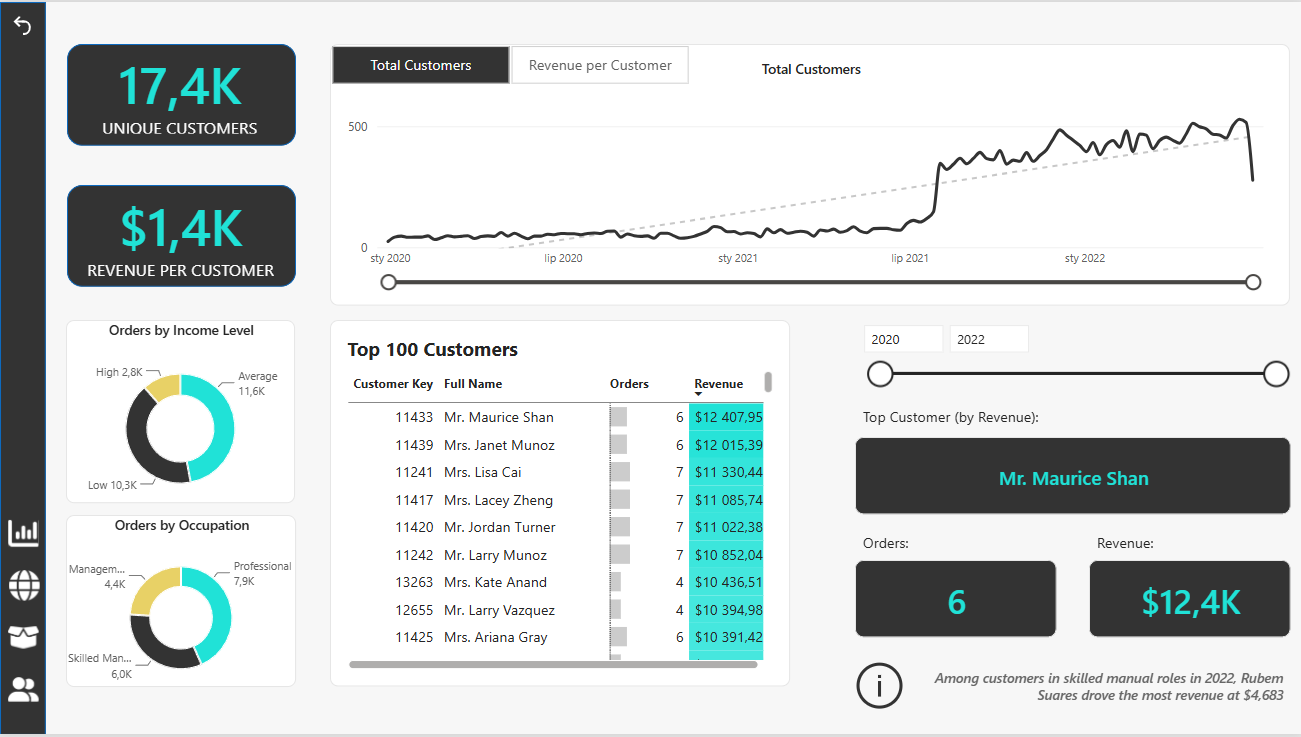

The dashboard page shown, as its layout file describes it:
{"tool":"powerbi","page":{"name":"Customer Detail","canvas":[1280,720],"ordinal":3},"visuals":[{"type":"shape","box":[0,0,45,720],"z":0},{"type":"shape","title":"Shape","box":[65.7,41.4,225,100],"z":1000},{"type":"actionButton","box":[0.8,602.7,44.7,41],"z":1000,"group":"g1"},{"type":"shape","box":[65.7,180,225,100],"z":2000},{"type":"actionButton","box":[1.4,551.8,43.5,41],"z":2000,"group":"g1"},{"type":"card","fields":{"Values":["Measure Table.Total Customers"]},"box":[64.3,35.7,225.7,110],"z":3000},{"type":"actionButton","box":[0.8,500.8,44.7,41],"z":3000,"group":"g1"},{"type":"card","fields":{"Values":["Measure Table.Average Customer per Customer"]},"box":[64.3,170,227.1,120],"z":4000},{"type":"actionButton","box":[0.8,653.7,44.7,41],"z":4000,"group":"g1"},{"type":"lineChart","fields":{"Category":["Calendar Lookup.Date Hierarchy.Year","Calendar Lookup.Date Hierarchy.Start of Month","Calendar Lookup.Date Hierarchy.Start of Week","Calendar Lookup.Date Hierarchy.Date"],"Y":["Measure Table.Total Customers"]},"box":[324,41.1,943.5,256.7],"z":5000},{"type":"donutChart","title":"Orders by Income Level","fields":{"Category":["Customer Lookup.Income Level"],"Y":["Measure Table.Total Orders"]},"box":[65,312.6,224.7,180.2],"z":6000},{"type":"donutChart","title":"Orders by Occupation","fields":{"Category":["Customer Lookup.Occupation"],"Y":["Measure Table.Total Orders"]},"box":[65,504.2,225.9,168.8],"z":7000},{"type":"tableEx","title":"Top 100 Customers","fields":{"Values":["Customer Lookup.CustomerKey","Customer Lookup.Full Name","Measure Table.Total Orders","Measure Table.Total Revenue"]},"box":[324.1,312.5,451.8,360.1],"z":8000},{"type":"cardVisual","fields":{"Data":["Measure Table.Full Name (Customer Detail)"]},"box":[839.6,427.3,428.9,76.7],"z":9000},{"type":"cardVisual","fields":{"Data":["Measure Table.Total Orders"]},"box":[839.6,548.1,198.9,76.7],"z":10000},{"type":"cardVisual","fields":{"Data":["Measure Table.Total Revenue"]},"box":[1069.6,548.1,198.9,76.7],"z":11000},{"type":"textbox","box":[847.7,398.3,198.6,20.9],"z":12000},{"type":"textbox","box":[847.7,521.2,70,33.3],"z":13000},{"type":"textbox","box":[1077.7,521.2,70,33.3],"z":14000},{"type":"slicer","fields":{"Values":["Calendar Lookup.Year"]},"box":[840.9,312.5,428.6,74.3],"z":15000},{"type":"actionButton","box":[835.2,636.6,432.6,70.7],"z":16000},{"type":"actionButton","box":[0,2.7,44.5,39.9],"z":17000},{"type":"group","id":"g1","title":"Nav buttons","box":[0.8,500.8,44.7,193.9],"z":18000},{"type":"slicer","fields":{"Values":["Customer Metric Selection.Customer Metric Selection"]},"box":[305.7,41.1,390.2,41.1],"z":19500}]}

Visuals, with their boxes on the page's 1280x720 design canvas (x1, y1, x2, y2). These are canvas units, not pixel positions in the 1301x737 screenshot, which may show the page scaled, cropped or inside an application window:
shape: (0,0,45,720)
"Shape" shape: (66,41,291,141)
actionButton: (1,603,46,644)
shape: (66,180,291,280)
actionButton: (1,552,45,593)
card - Measure Table.Total Customers: (64,36,290,146)
actionButton: (1,501,46,542)
card - Measure Table.Average Customer per Customer: (64,170,291,290)
actionButton: (1,654,46,695)
lineChart - Calendar Lookup.Date Hierarchy.Year x Calendar Lookup.Date Hierarchy.Start of Month: (324,41,1268,298)
"Orders by Income Level" donutChart: (65,313,290,493)
"Orders by Occupation" donutChart: (65,504,291,673)
"Top 100 Customers" tableEx: (324,312,776,673)
cardVisual - Measure Table.Full Name (Customer Detail): (840,427,1268,504)
cardVisual - Measure Table.Total Orders: (840,548,1038,625)
cardVisual - Measure Table.Total Revenue: (1070,548,1268,625)
textbox: (848,398,1046,419)
textbox: (848,521,918,554)
textbox: (1078,521,1148,554)
slicer - Calendar Lookup.Year: (841,312,1270,387)
actionButton: (835,637,1268,707)
actionButton: (0,3,44,43)
"Nav buttons" group: (1,501,46,695)
slicer - Customer Metric Selection.Customer Metric Selection: (306,41,696,82)
